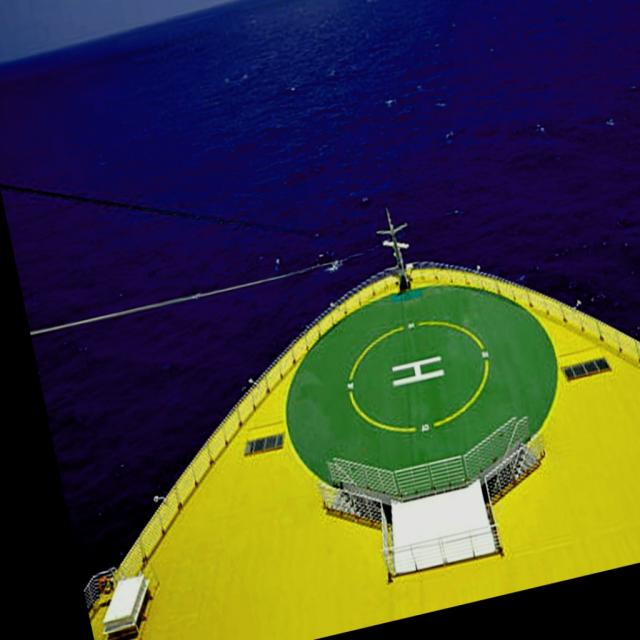helipad: (342, 314, 494, 438)
